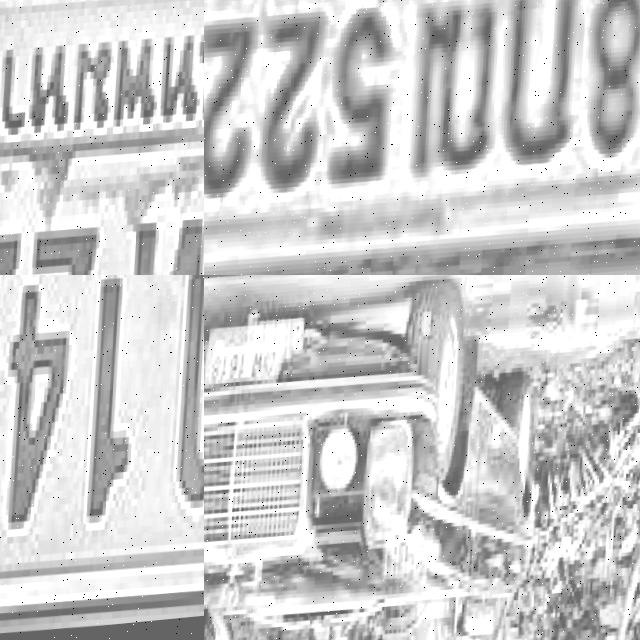license-plate: (204, 0, 640, 275), (0, 275, 204, 640), (0, 0, 204, 275), (204, 316, 291, 393)
